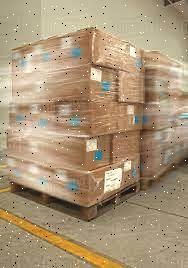Box: (5, 156, 141, 208), (12, 26, 147, 77), (9, 104, 144, 137), (6, 130, 112, 172), (14, 64, 118, 105), (147, 52, 188, 100), (145, 97, 188, 135), (145, 130, 176, 180), (116, 69, 145, 104), (111, 134, 141, 165)
pallet: (10, 182, 140, 221)
